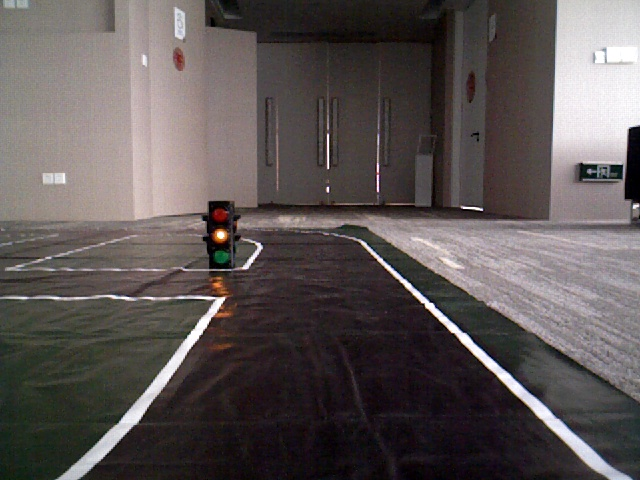yellow: (206, 203, 234, 268)
